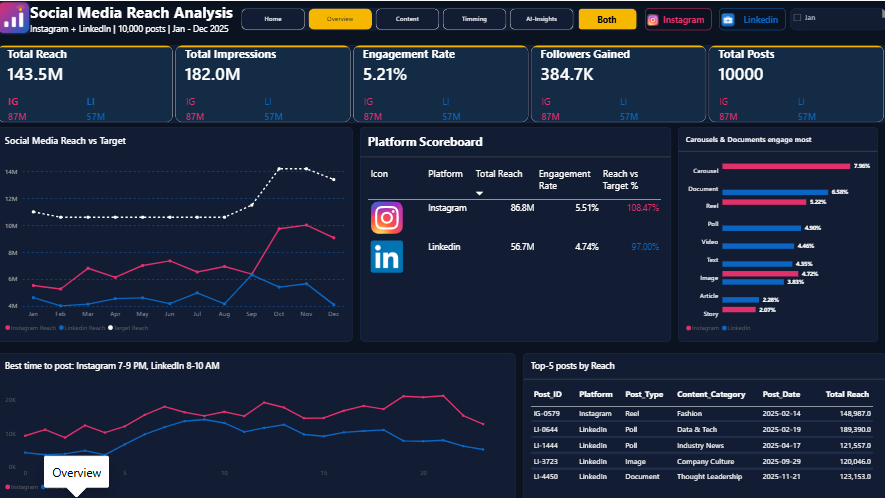

What the dashboard file says about the page in this screenshot:
{"tool":"powerbi","page":{"name":"Overview","canvas":[1920,1080],"ordinal":1},"visuals":[{"type":"textbox","title":"Social Media Reach Analysis","box":[72,0,448,80],"z":0},{"type":"image","box":[0,0,72,72],"z":1000},{"type":"actionButton","box":[1256,16,128,48],"z":2000},{"type":"actionButton","box":[1400,16,144,48],"z":3000},{"type":"actionButton","box":[1560,16,144,48],"z":4000},{"type":"cardVisual","fields":{"Data":["_Measures.Total Reach","_Measures.Total Impressions","_Measures.Engagement Rate","_Measures.Followers Gained","_Measures.Total Posts"]},"box":[0,96,1920,168],"z":5000},{"type":"lineChart","title":"Social Media Reach vs Target","fields":{"Category":["Dim_Date.Month"],"Y":["_Measures.Instagram Reach","_Measures.Linkedin Reach","_Measures.Target Reach"]},"box":[0,272,768,464],"z":6000},{"type":"tableEx","title":"Platform Scoreboard","fields":{"Values":["Dim_Platform.Icon","Dim_Platform.Platfrom","_Measures.Total Reach","_Measures.Engagement Rate","_Measures.Reach vs Target %"]},"box":[784,272,672,464],"z":7000},{"type":"clusteredBarChart","title":"Carousels & Documents engage most","fields":{"Category":["Posts.Post_Type"],"Series":["Posts.Platform"],"Y":["_Measures.Engagement Rate"]},"box":[1472,272,432,464],"z":8000},{"type":"lineChart","title":"Best time to post: Instagram 7-9 PM, LinkedIn 8-10 AM","fields":{"Category":["Posts.Post_Hour"],"Series":["Posts.Platform"],"Y":["_Measures.Avg Reach per Post"]},"box":[0,760,1120,320],"z":9000},{"type":"tableEx","title":"Top-5 posts by Reach","fields":{"Values":["Posts.Post_ID","Posts.Platform","Posts.Post_Type","Posts.Content_Category","Posts.Post_Date","_Measures.Total Reach"]},"box":[1136,760,784,320],"z":10000},{"type":"pageNavigator","box":[528,16,720,48],"z":11000},{"type":"slicer","fields":{"Values":["Dim_Date.Month"]},"box":[1712,16,208,48],"z":12000}]}

Visuals, with their boxes in screenshot pixels (x1, y1, x2, y2), scaled from the page's 1920x1080 canvas onto the 885x498 screenshot:
"Social Media Reach Analysis" textbox: pyautogui.locateOnScreen(33, 0, 240, 37)
image: pyautogui.locateOnScreen(0, 0, 33, 33)
actionButton: pyautogui.locateOnScreen(579, 7, 638, 30)
actionButton: pyautogui.locateOnScreen(645, 7, 712, 30)
actionButton: pyautogui.locateOnScreen(719, 7, 785, 30)
cardVisual - _Measures.Total Reach x _Measures.Total Impressions: pyautogui.locateOnScreen(0, 44, 884, 122)
"Social Media Reach vs Target" lineChart: pyautogui.locateOnScreen(0, 125, 354, 339)
"Platform Scoreboard" tableEx: pyautogui.locateOnScreen(361, 125, 671, 339)
"Carousels & Documents engage most" clusteredBarChart: pyautogui.locateOnScreen(678, 125, 878, 339)
"Best time to post: Instagram 7-9 PM, LinkedIn 8-10 AM" lineChart: pyautogui.locateOnScreen(0, 350, 516, 497)
"Top-5 posts by Reach" tableEx: pyautogui.locateOnScreen(524, 350, 884, 497)
pageNavigator: pyautogui.locateOnScreen(243, 7, 575, 30)
slicer - Dim_Date.Month: pyautogui.locateOnScreen(789, 7, 884, 30)
